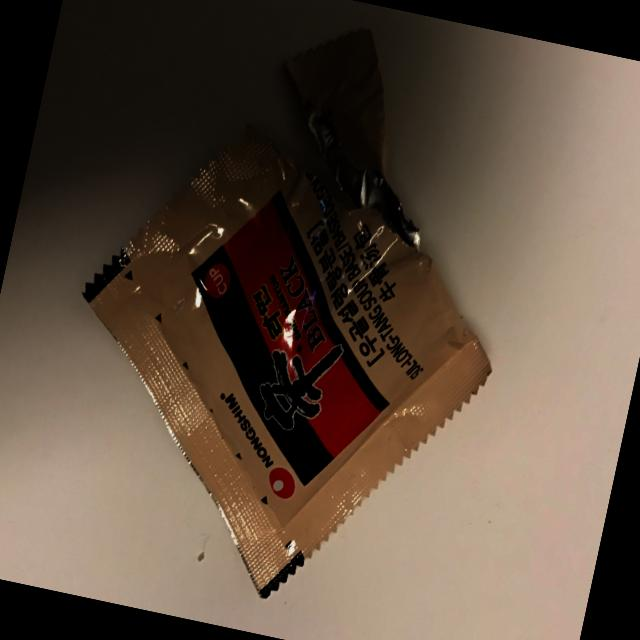Plastic: (0, 0, 565, 640)
